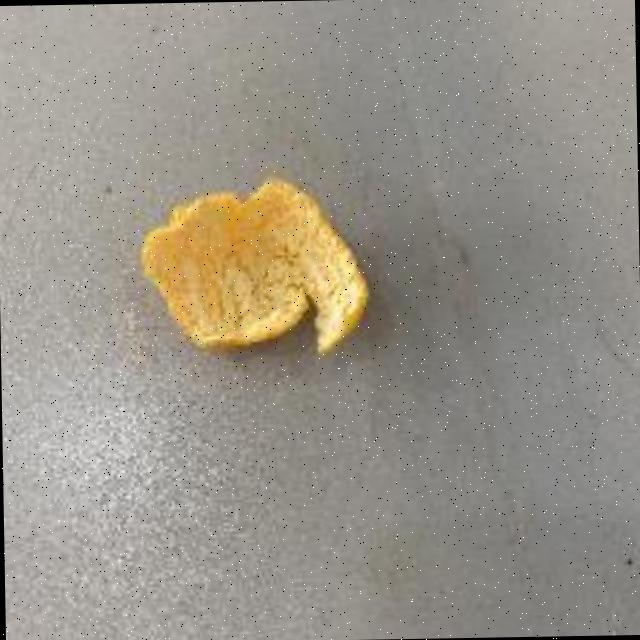orange-peel: (136, 174, 371, 358)
